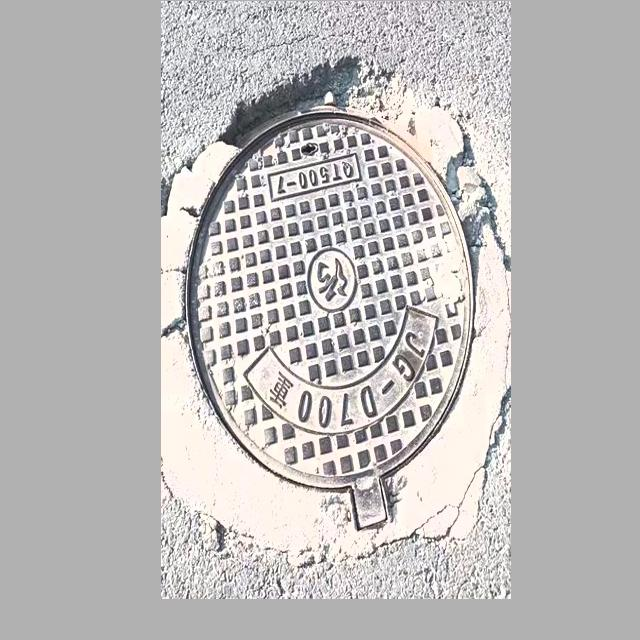circle: (170, 71, 499, 552)
